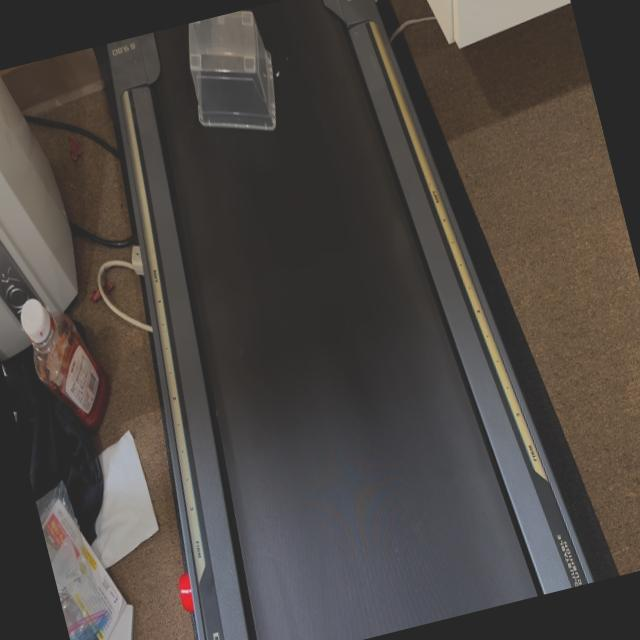Recycle: (174, 4, 293, 148)
